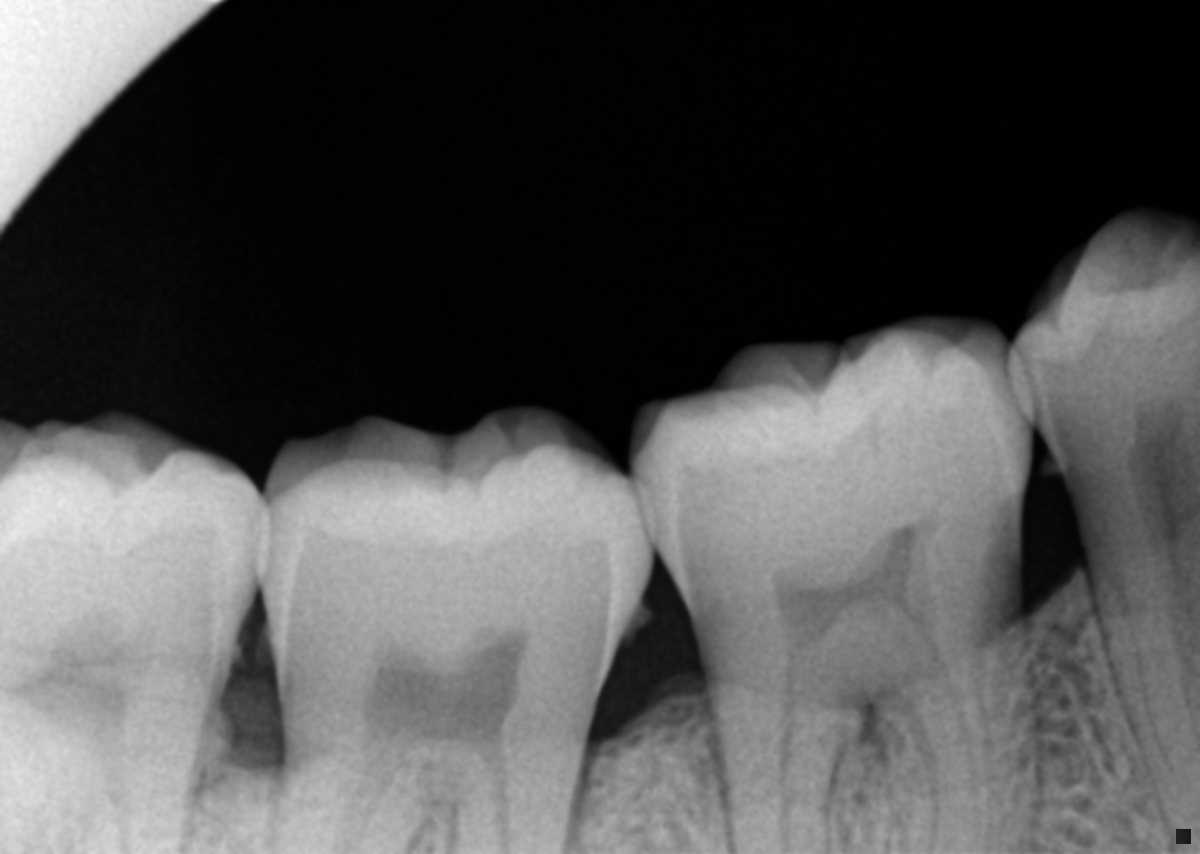Distal Canal: (328, 761, 404, 854)
Distal Root: (705, 703, 861, 854), (260, 752, 428, 854)
Main Canal: (1150, 512, 1191, 726)
Main Root: (1082, 478, 1200, 854), (0, 711, 202, 854)
Mesial Canal: (878, 690, 937, 854), (96, 747, 132, 853), (483, 762, 515, 854)
Mesial Root: (869, 621, 1039, 854), (430, 752, 586, 854)
